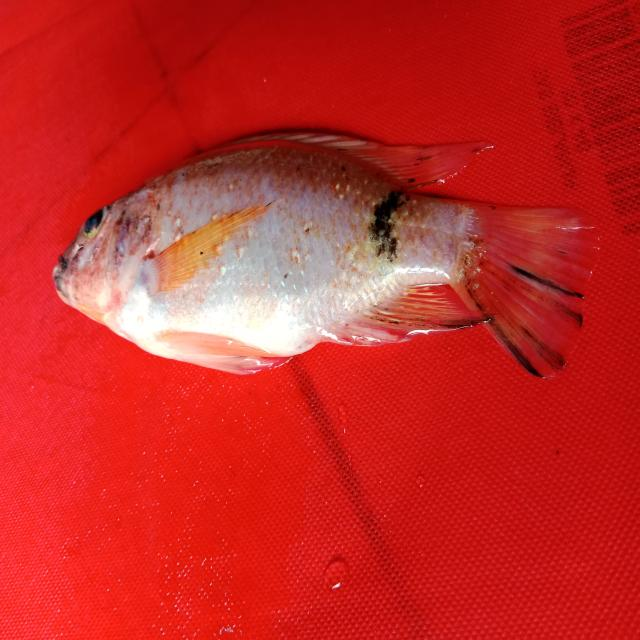ikan: (33, 104, 609, 408)
